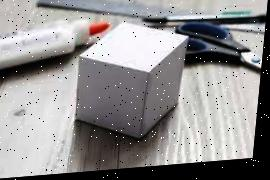cube: (74, 21, 190, 146)
